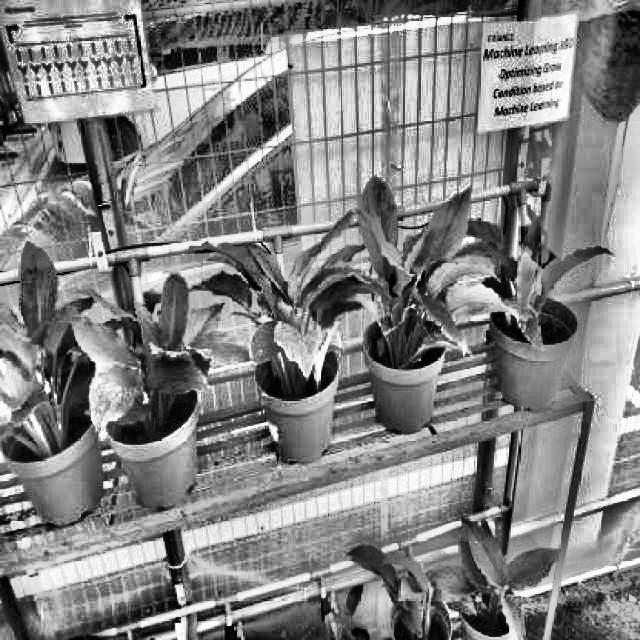plants: (184, 238, 372, 406), (346, 176, 500, 379), (69, 272, 249, 434), (0, 233, 106, 458), (466, 194, 612, 352), (440, 511, 571, 640)
